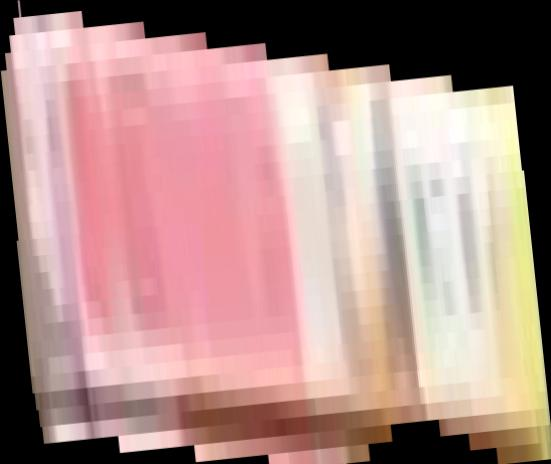flat: (1, 1, 551, 464)
